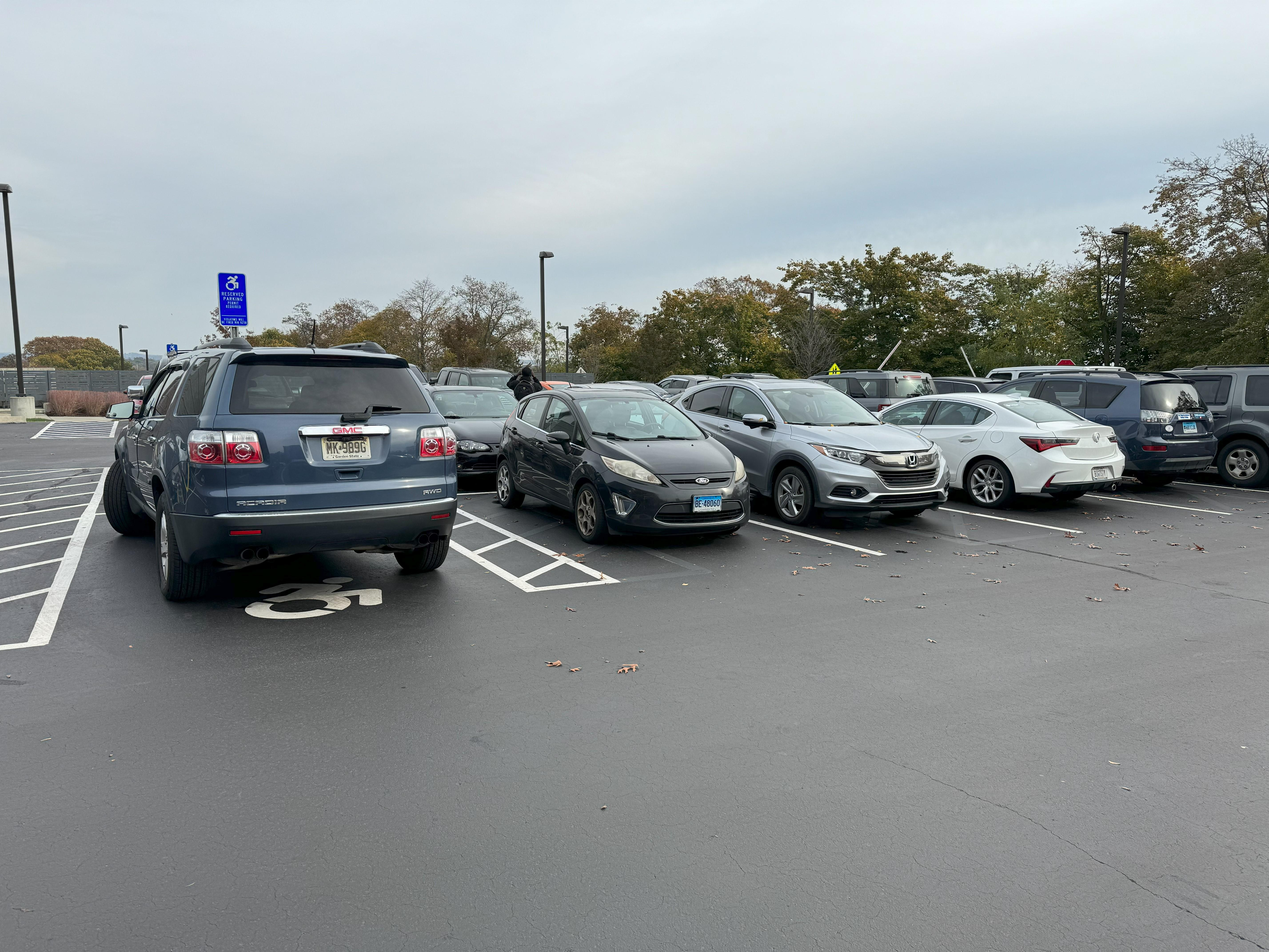occupied: (98, 334, 457, 666), (694, 309, 944, 515), (531, 363, 756, 568), (880, 380, 1129, 529), (1109, 368, 1238, 509), (471, 369, 510, 497)
